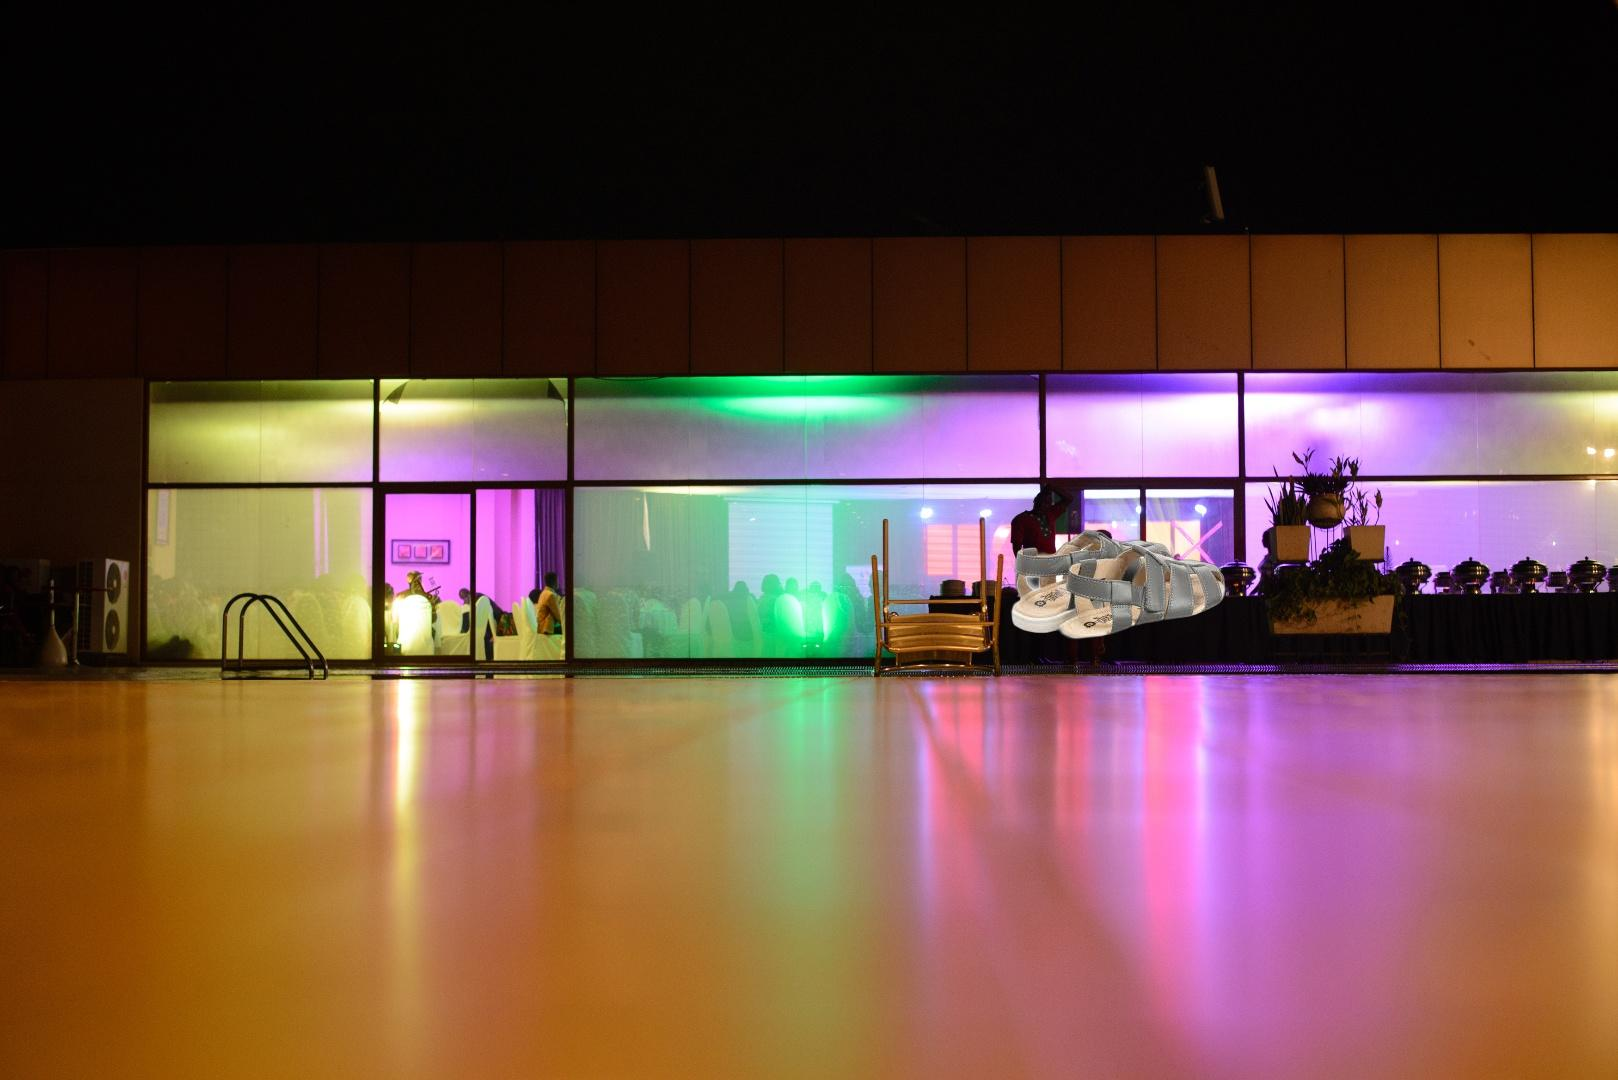shoes: (1008, 527, 1228, 642)
